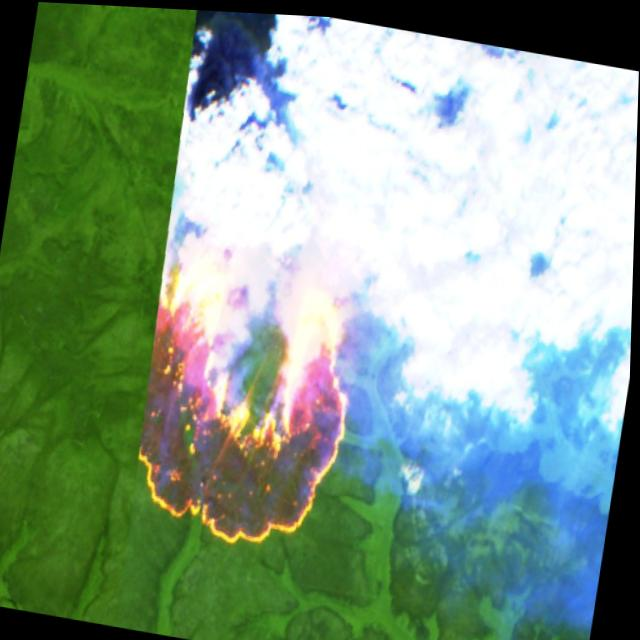fire: (123, 224, 377, 563)
